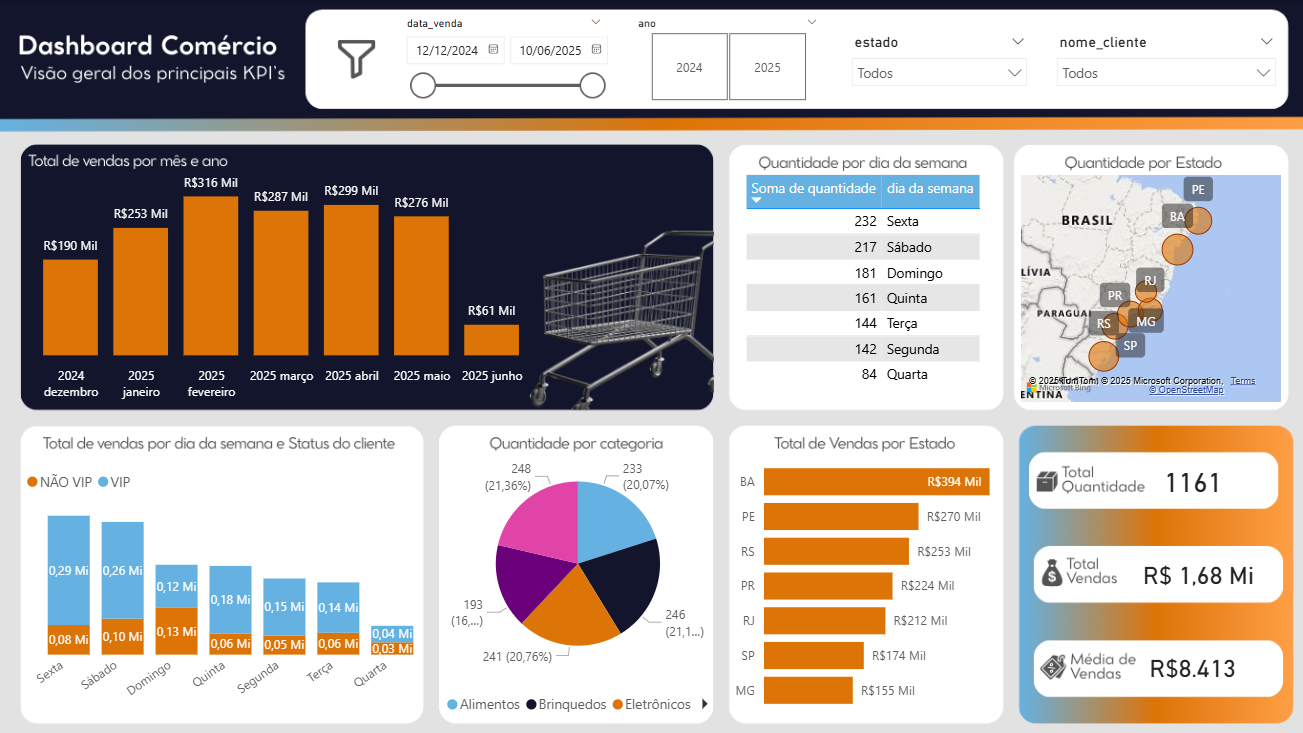

What the dashboard file says about the page in this screenshot:
{"tool":"powerbi","page":{"name":"Página 1","canvas":[1280,720],"ordinal":0},"visuals":[{"type":"columnChart","title":"Total de Vendas por Mês e Ano","fields":{"Y":["dados_vendas_empresa1_completos.total_venda"],"Category":["dados_vendas_empresa1_completos.data_venda.Variation.Hierarquia de datas.Ano","dados_vendas_empresa1_completos.data_venda.Variation.Hierarquia de datas.Mês"]},"box":[0,155.8,543.6,244.2],"z":0},{"type":"slicer","fields":{"Values":["dados_vendas_empresa1_completos.data_venda"]},"box":[386.5,11,216,94.5],"z":1000},{"type":"barChart","title":"Total de Vendas por Estado","fields":{"Y":["dados_vendas_empresa1_completos.total_venda"],"Category":["dados_vendas_empresa1_completos.estado"]},"box":[714.1,433.1,312.9,277.3],"z":2000},{"type":"pieChart","title":"Quantidade vendida por Categoria","fields":{"Y":["dados_vendas_empresa1_completos.quantidade"],"Series":["dados_vendas_empresa1_completos.categoria"]},"box":[433.1,425.8,268.7,284.7],"z":3000},{"type":"slicer","fields":{"Values":["dados_vendas_empresa1_completos.ano"]},"box":[613.5,11,201.2,94.5],"z":4000},{"type":"card","fields":{"Values":["dados_vendas_empresa1_completos.total_venda"]},"box":[1100.6,536.2,152.1,55.2],"z":5000},{"type":"tableEx","fields":{"Values":["dados_vendas_empresa1_completos.quantidade","dados_vendas_empresa1_completos.dia da semana"]},"box":[726.4,166.9,245.4,224.5],"z":6000},{"type":"map","fields":{"Category":["dados_vendas_empresa1_completos.estado"],"Size":["dados_vendas_empresa1_completos.quantidade"]},"box":[997.6,166.9,265,233.1],"z":8000},{"type":"columnChart","title":"Total de vendas por dia da semana e status do cliente","fields":{"Category":["dados_vendas_empresa1_completos.dia da semana"],"Series":["dados_vendas_empresa1_completos.Status_Clientes"],"Y":["dados_vendas_empresa1_completos.total_venda"]},"box":[20.9,452.8,412.3,252.8],"z":9000},{"type":"slicer","fields":{"Values":["dados_vendas_empresa1_completos.nome_cliente"]},"box":[1027,28.2,235.6,68.7],"z":10000},{"type":"slicer","fields":{"Values":["dados_vendas_empresa1_completos.estado"]},"box":[825.8,28.2,192.6,68.7],"z":11000},{"type":"card","fields":{"Values":["dados_vendas_empresa1_completos.total_venda"]},"box":[1100.6,628.2,141.1,55.2],"z":12000},{"type":"card","fields":{"Values":["dados_vendas_empresa1_completos.quantidade"]},"box":[1100.6,444.2,141.1,56.4],"z":13000}]}

Visuals, with their boxes in screenshot pixels (x1, y1, x2, y2), scaled from the page's 1280x720 canvas onto the 1303x733 screenshot:
"Total de Vendas por Mês e Ano" columnChart: {"left": 0, "top": 159, "right": 553, "bottom": 407}
slicer - dados_vendas_empresa1_completos.data_venda: {"left": 393, "top": 11, "right": 613, "bottom": 107}
"Total de Vendas por Estado" barChart: {"left": 727, "top": 441, "right": 1045, "bottom": 723}
"Quantidade vendida por Categoria" pieChart: {"left": 441, "top": 433, "right": 714, "bottom": 723}
slicer - dados_vendas_empresa1_completos.ano: {"left": 625, "top": 11, "right": 829, "bottom": 107}
card - dados_vendas_empresa1_completos.total_venda: {"left": 1120, "top": 546, "right": 1275, "bottom": 602}
tableEx - dados_vendas_empresa1_completos.quantidade x dados_vendas_empresa1_completos.dia da semana: {"left": 739, "top": 170, "right": 989, "bottom": 398}
map - dados_vendas_empresa1_completos.estado x dados_vendas_empresa1_completos.quantidade: {"left": 1016, "top": 170, "right": 1285, "bottom": 407}
"Total de vendas por dia da semana e status do cliente" columnChart: {"left": 21, "top": 461, "right": 441, "bottom": 718}
slicer - dados_vendas_empresa1_completos.nome_cliente: {"left": 1045, "top": 29, "right": 1285, "bottom": 99}
slicer - dados_vendas_empresa1_completos.estado: {"left": 841, "top": 29, "right": 1037, "bottom": 99}
card - dados_vendas_empresa1_completos.total_venda: {"left": 1120, "top": 640, "right": 1264, "bottom": 696}
card - dados_vendas_empresa1_completos.quantidade: {"left": 1120, "top": 452, "right": 1264, "bottom": 510}
